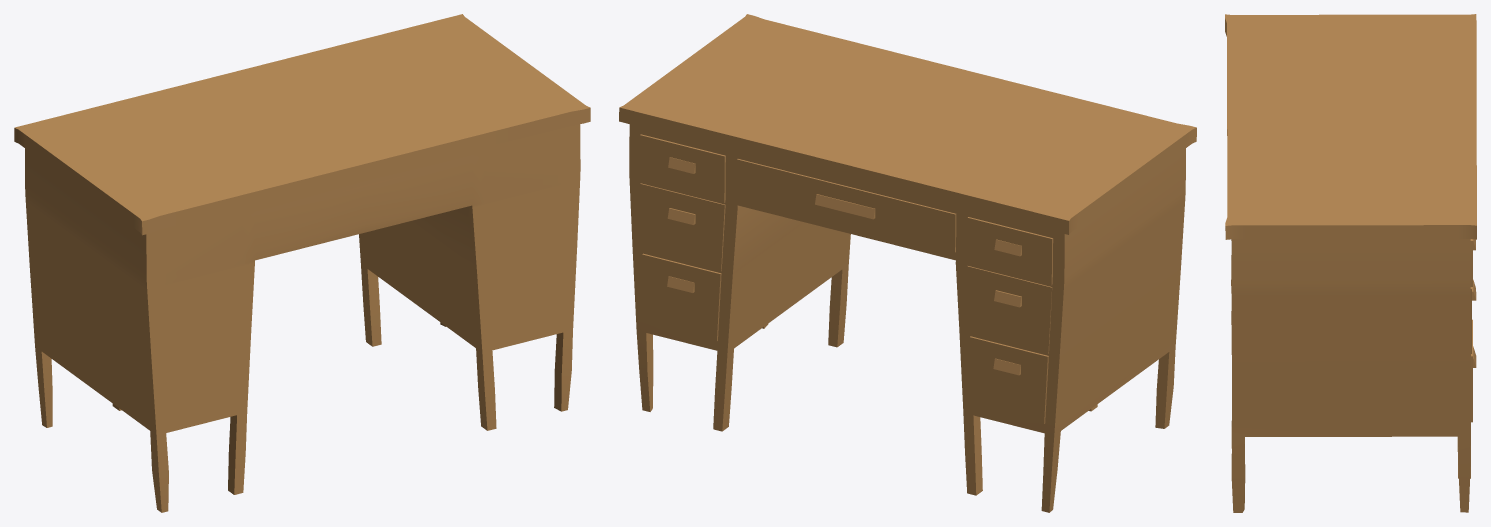
The model's file is Desk fixed.fbx.
3 views of the same model, side by side, from view 1: azimuth 30°, elevation 25°; view 2: azimuth 150°, elevation 25°; view 3: azimuth 270°, elevation 25° (orthographic).
Parts seen in each view (by area): view 1: Cube; view 2: Cube; view 3: Cube.
Part boxes in pixels (box(x1,y1,x2,y2)): Cube: box(14, 14, 590, 512); Cube: box(619, 14, 1196, 512); Cube: box(1225, 14, 1476, 512).
Bounding box in the file's own units: 124 × 80.43 × 61.28.
